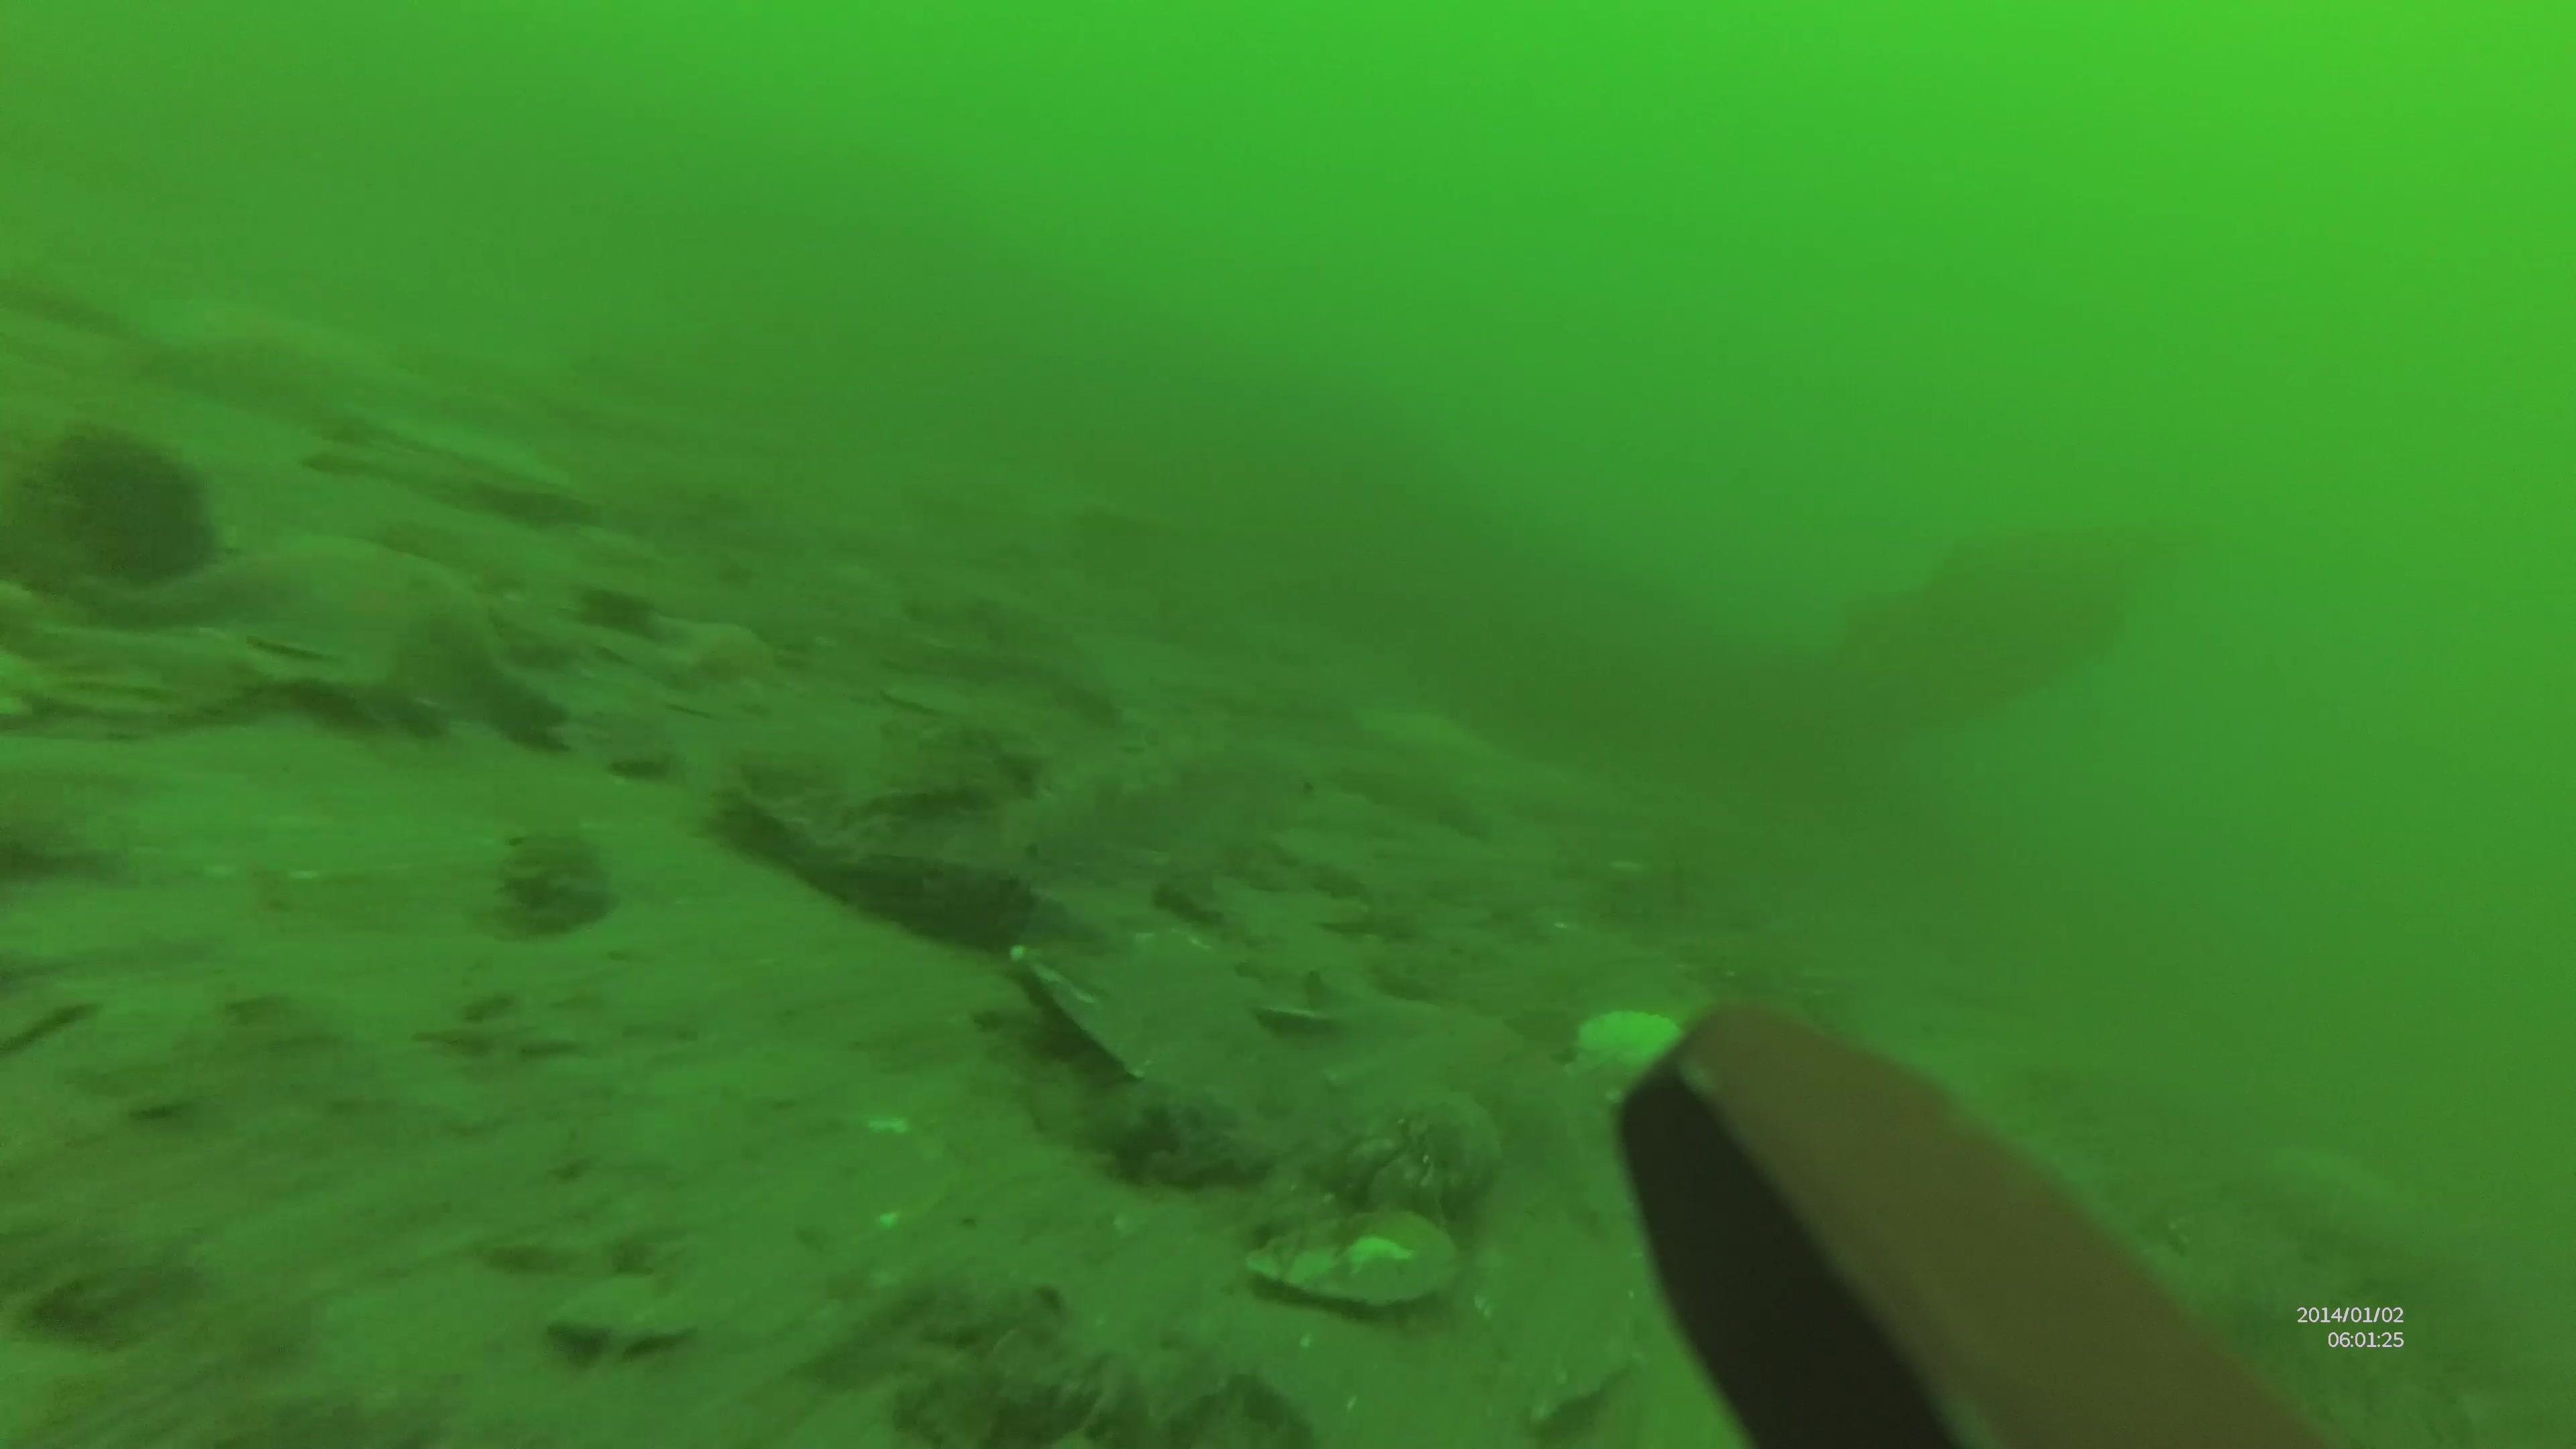starfish: (1261, 947, 1606, 1185), (184, 525, 571, 738), (653, 607, 786, 713)
